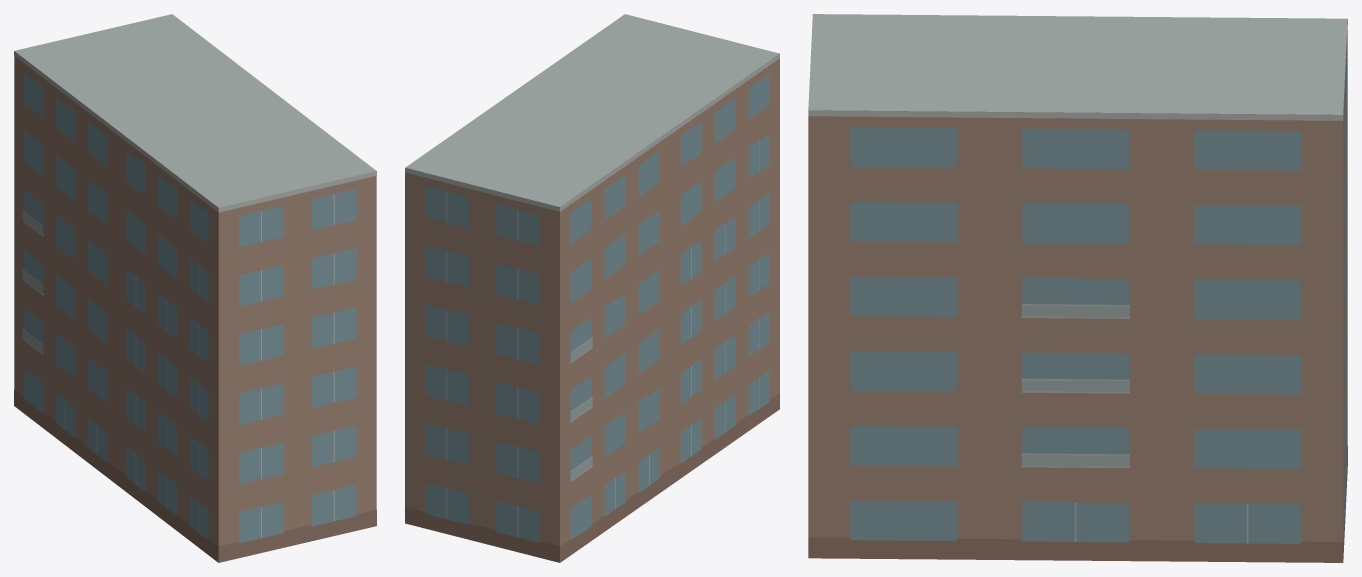
The model's file is survey-upis-32577354.glb.
3 views of the same model, side by side, from view 1: azimuth 30°, elevation 25°; view 2: azimuth 150°, elevation 25°; view 3: azimuth 270°, elevation 25° (orthographic). The views are drawn at different scales.
Parts seen in each view (by area): view 1: survey-upis-32577354.tmp; view 2: survey-upis-32577354.tmp; view 3: survey-upis-32577354.tmp.
Part boxes in pixels (left/top/right/bottom): survey-upis-32577354.tmp: left=14, top=14, right=376, bottom=562; survey-upis-32577354.tmp: left=405, top=14, right=779, bottom=562; survey-upis-32577354.tmp: left=808, top=14, right=1347, bottom=562.
Size of the model in its own units: 8.85 by 18.3 by 19.98.
